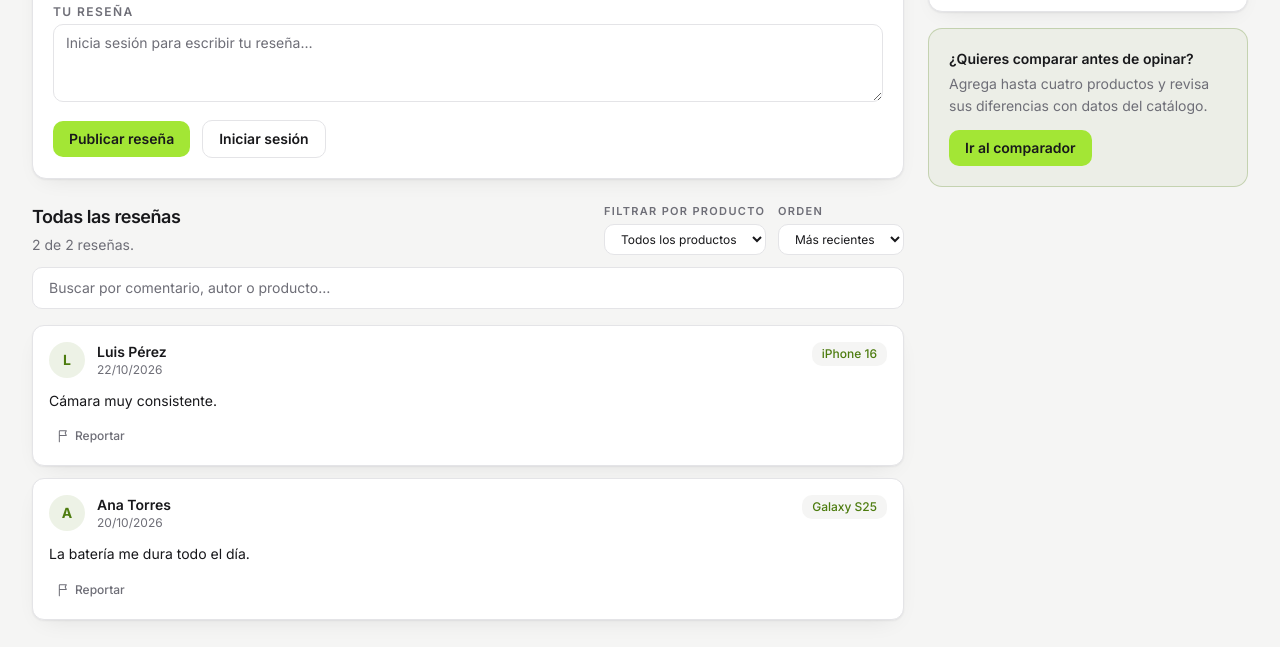
Test: ResenasCliente › filtra por texto y por producto
(page scrolled)
Check: the text "La batería me dura todo el día." is shown, box [49, 545, 250, 562]
Type "cámara" into the search field named "Buscar reseñas por comentario, autor o producto" at (468, 288), box [32, 266, 904, 308]
(page scrolled)
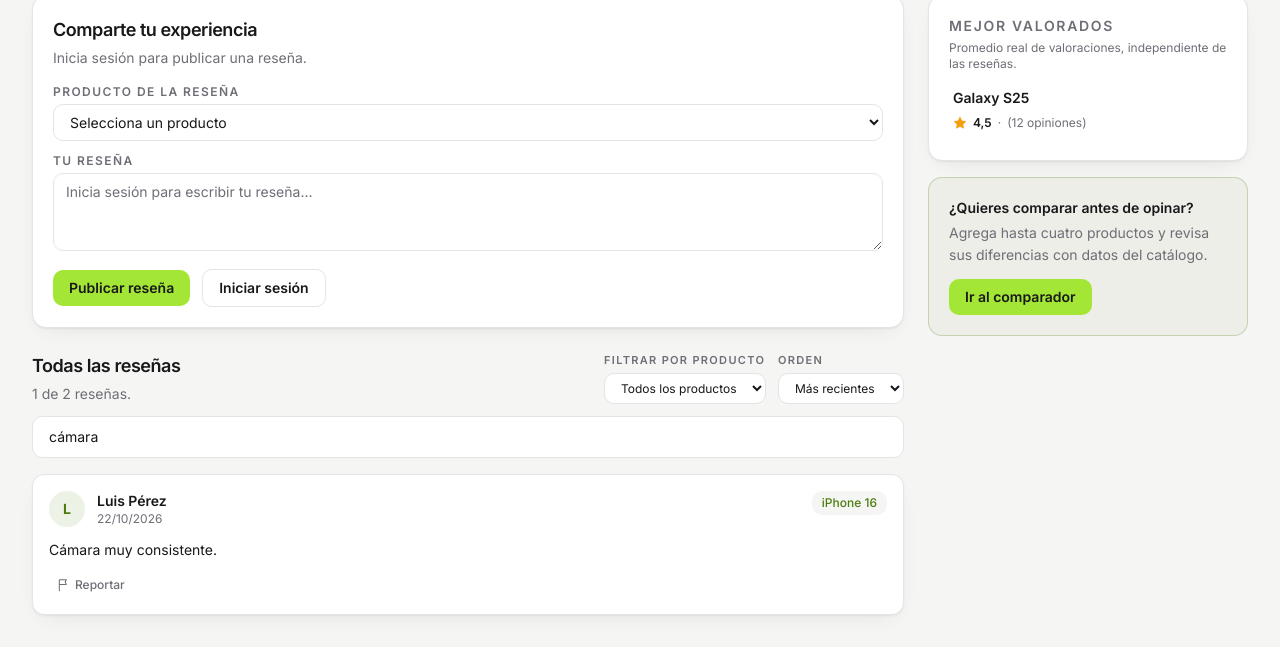
Check: the text "Cámara muy consistente." is shown, box [49, 540, 217, 558]
Check: the text "La batería me dura todo el día." is gone
Select "Galaxy S25" in the dropdown labelled "Filtrar por producto" at (685, 388), box [604, 372, 766, 404]
(page scrolled)
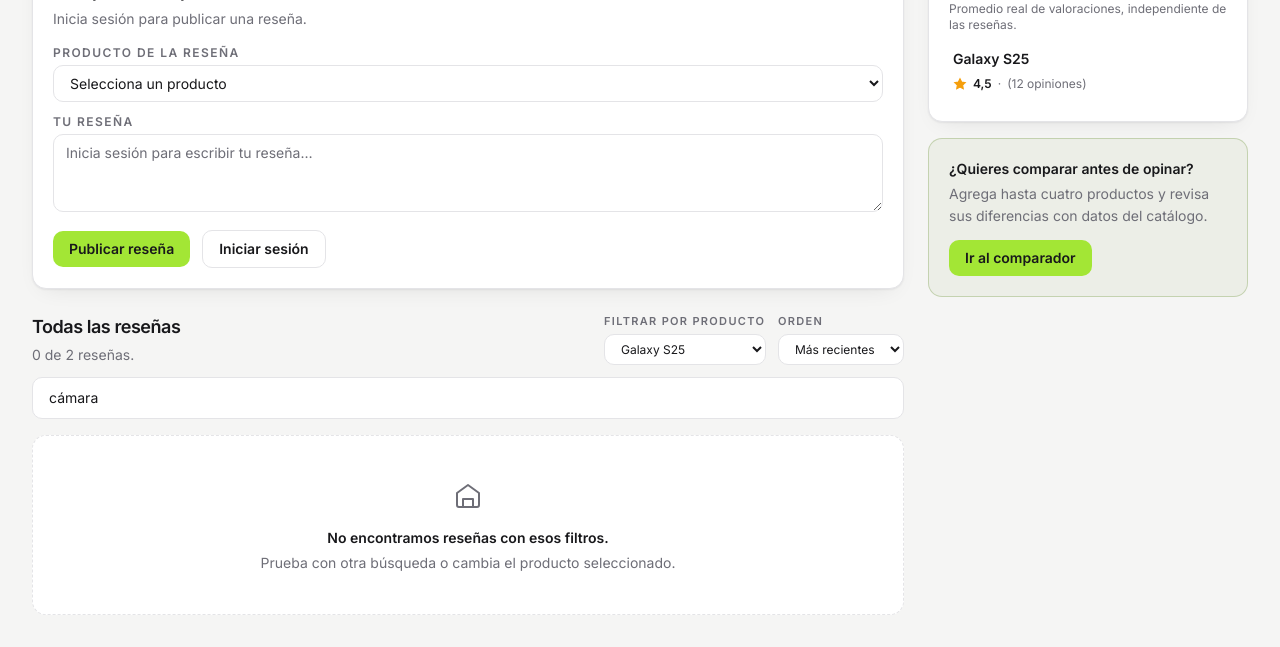
Check: the text "No encontramos reseñas con esos filtros." is shown, box [327, 528, 609, 546]
